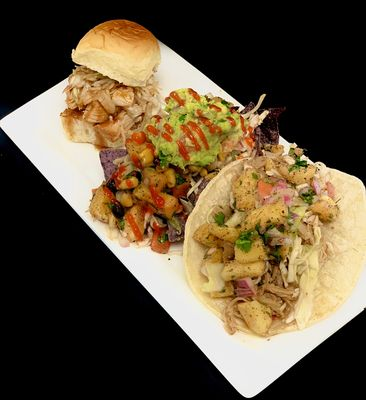soup: (60, 20, 164, 149)
